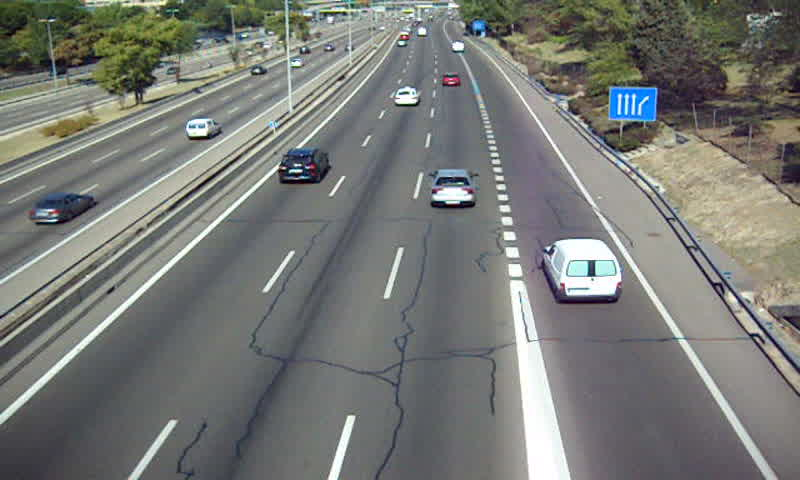car: (278, 148, 328, 183), (429, 171, 476, 208), (393, 85, 422, 108), (442, 74, 461, 88)
van: (544, 239, 623, 301)
